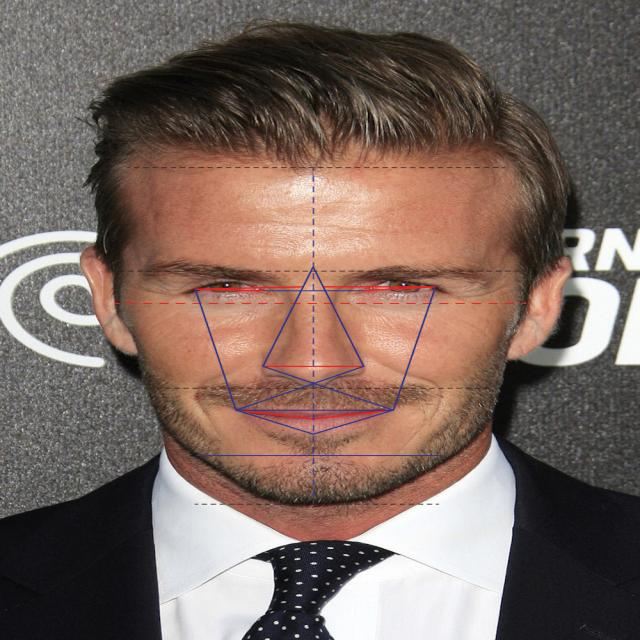earlobe: (78, 244, 140, 357), (508, 253, 574, 359)
